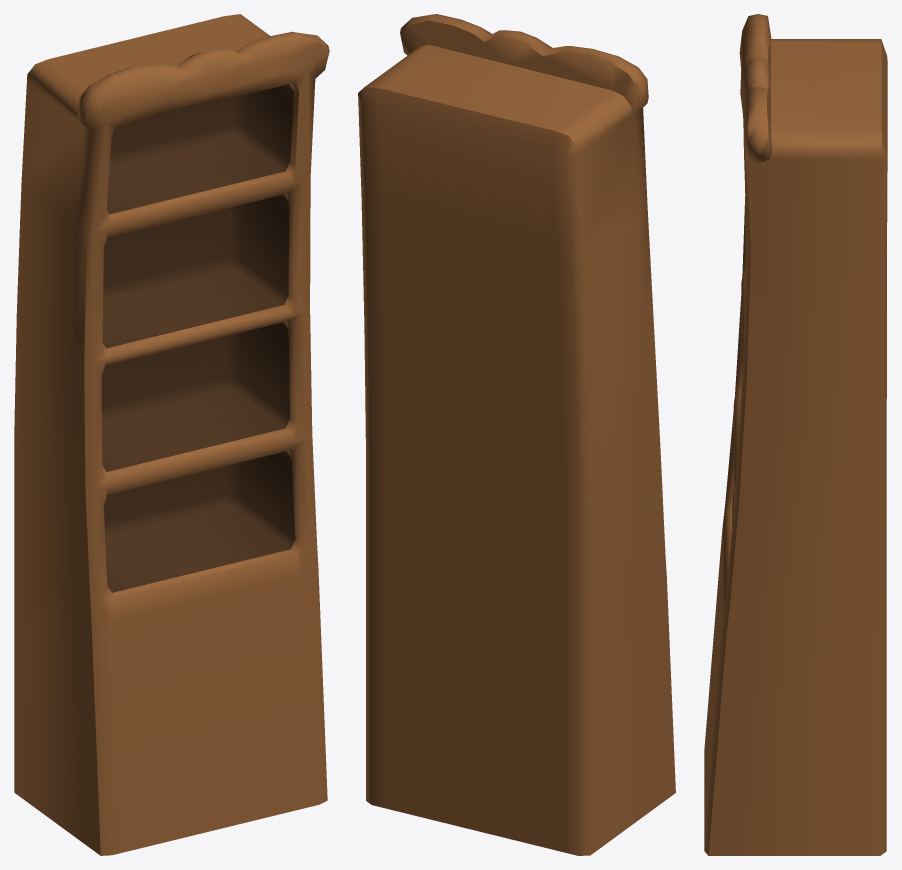
File: LargeShelfRight.fbx
The picture shows the model from 3 angles, left to right: view 1: azimuth 30°, elevation 25°; view 2: azimuth 150°, elevation 25°; view 3: azimuth 270°, elevation 25°; orthographic projection.
Parts seen in each view (by area): view 1: LargeShelfRight; view 2: LargeShelfRight; view 3: LargeShelfRight.
Part boxes in pixels (x1,y1,x2,y2): LargeShelfRight: [14, 14, 329, 855]; LargeShelfRight: [358, 14, 675, 855]; LargeShelfRight: [704, 14, 887, 855].
Size of the model in its own units: 41.64 by 119 by 26.35.
